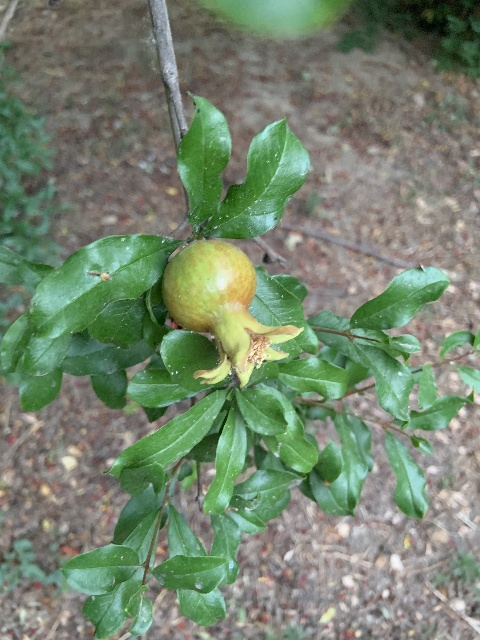mid-growth: (162, 238, 304, 388)
